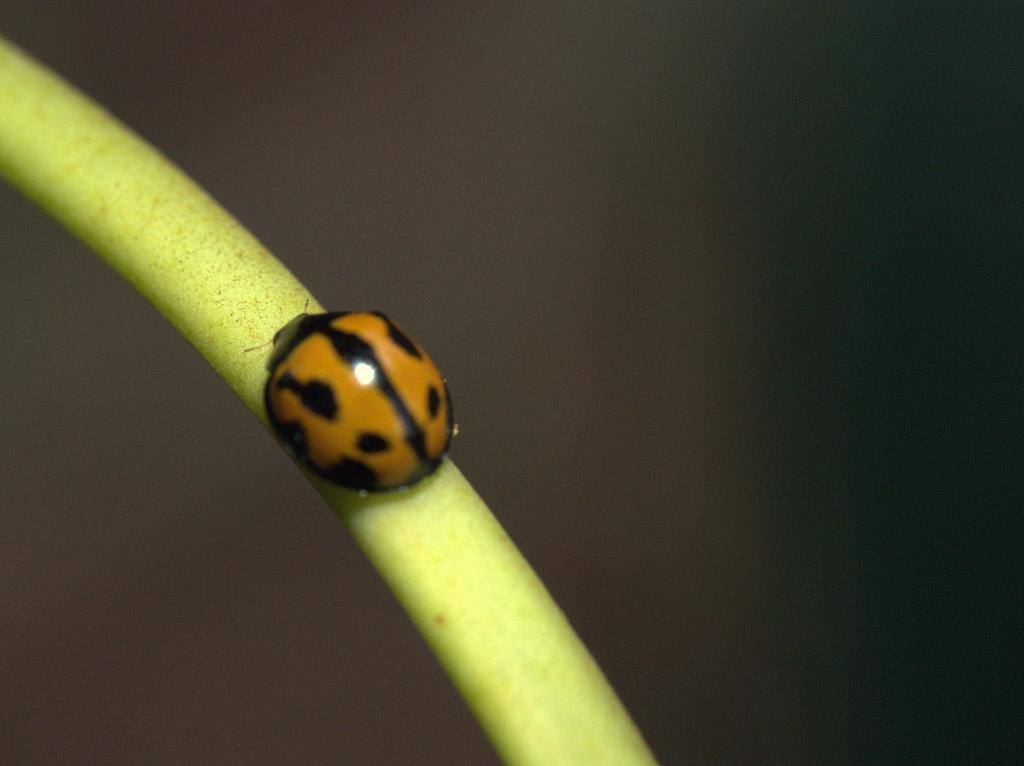ladybug: (245, 295, 463, 497)
